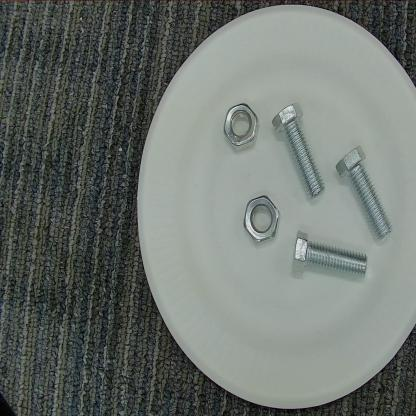FOD: (333, 136, 398, 249), (270, 95, 327, 209), (287, 225, 371, 283), (241, 189, 281, 252), (218, 100, 262, 154)
